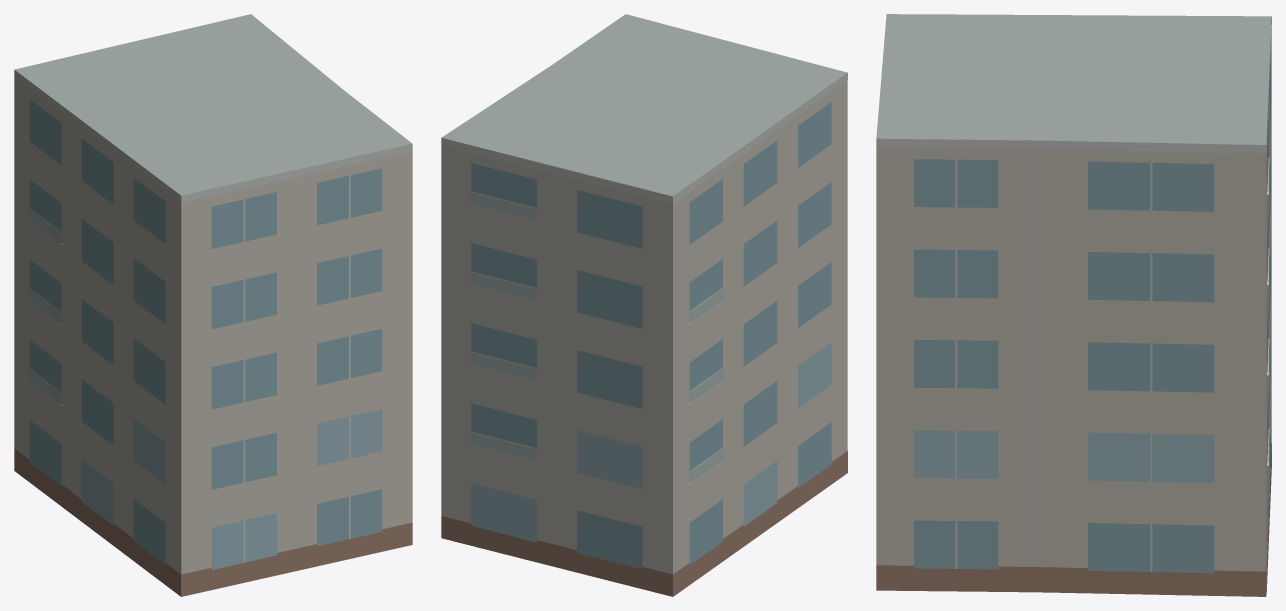
File: survey-upis-32564438.glb
3 renders of one model, left to right at view 1: azimuth 30°, elevation 25°; view 2: azimuth 150°, elevation 25°; view 3: azimuth 270°, elevation 25°, orthographic. The views are drawn at different scales.
Parts seen in each view (by area): view 1: survey-upis-32564438.tmp; view 2: survey-upis-32564438.tmp; view 3: survey-upis-32564438.tmp.
Part boxes in pixels (x1=…): survey-upis-32564438.tmp: x1=14, y1=14, x2=412, y2=596; survey-upis-32564438.tmp: x1=441, y1=14, x2=847, y2=596; survey-upis-32564438.tmp: x1=876, y1=14, x2=1271, y2=596.
Size of the model in its own units: 8.19 by 13.15 by 10.44.
